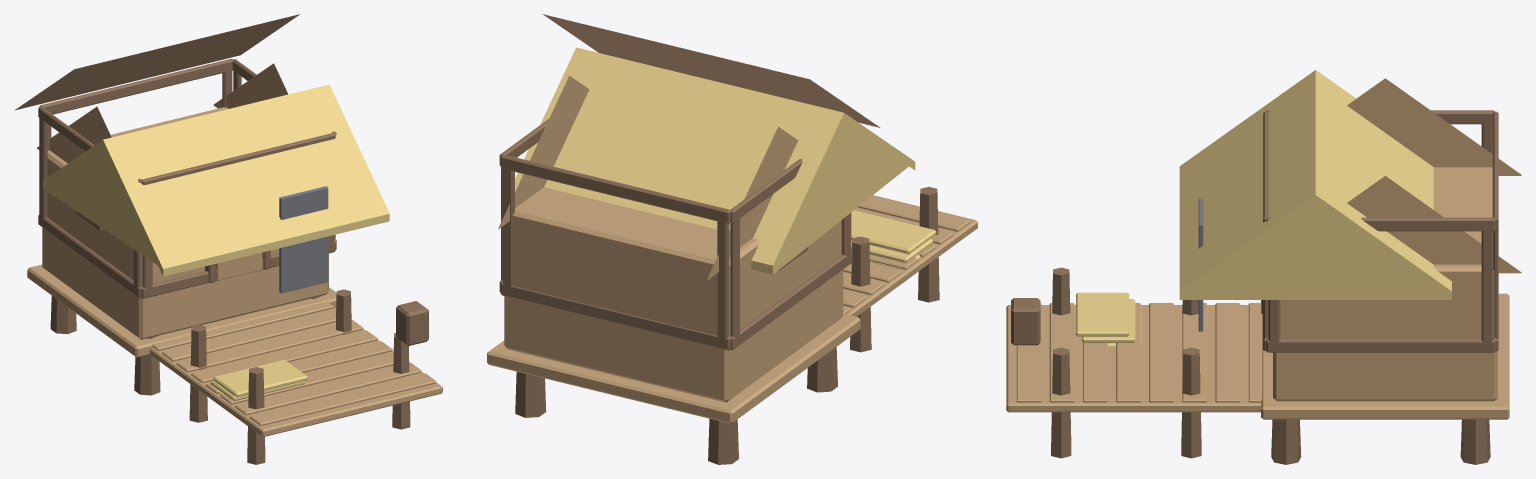
Rendered from town_fishing_hut_on_stilts.glb.
The picture shows the model from 3 angles, left to right: view 1: azimuth 30°, elevation 25°; view 2: azimuth 150°, elevation 25°; view 3: azimuth 270°, elevation 25°; orthographic projection. The views are drawn at different scales.
Parts seen in each view (by area): view 1: world; view 2: world; view 3: world.
Boxes of the visible parts, left/top/right/bottom form: world: left=14, top=14, right=442, bottom=464; world: left=487, top=14, right=977, bottom=464; world: left=1006, top=70, right=1521, bottom=464.
Bounding box in the file's own units: 1.15 × 1.44 × 2.
